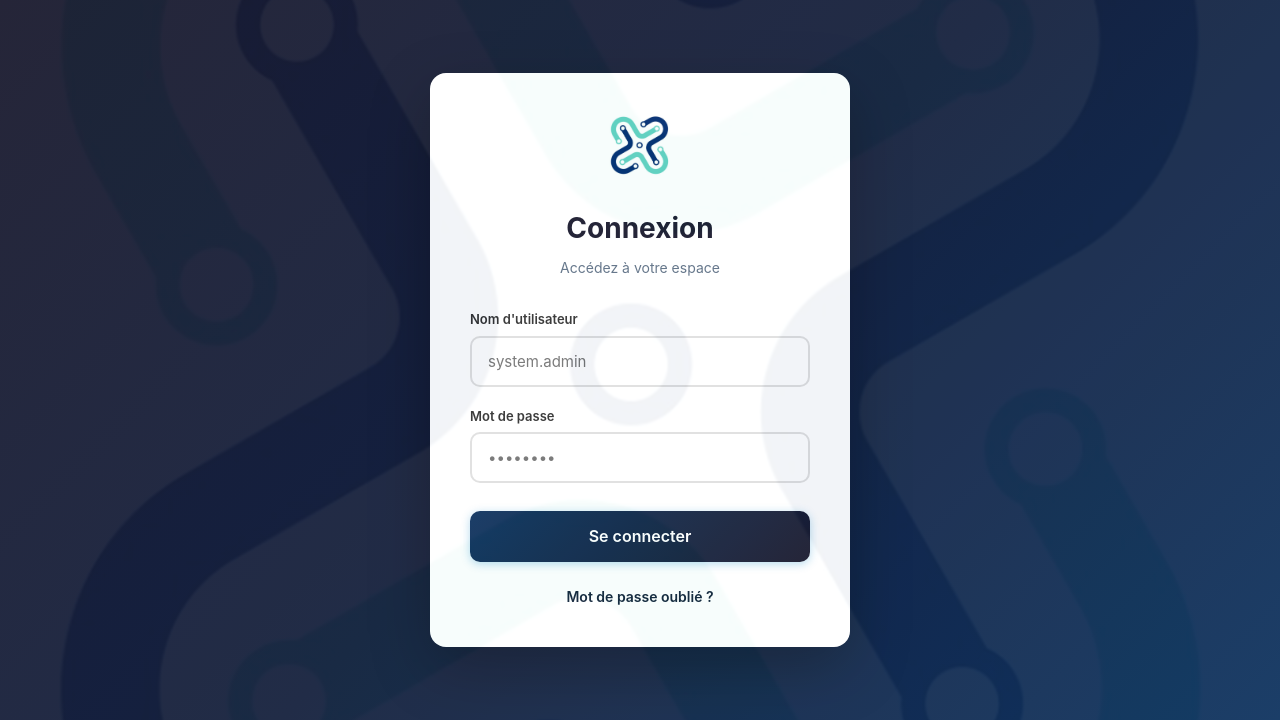
01 - Auth: Login Page › should show error on invalid credentials
Type "wrong.user" into the field with id "username" at {"x": 640, "y": 362}, box [470,336,810,387]
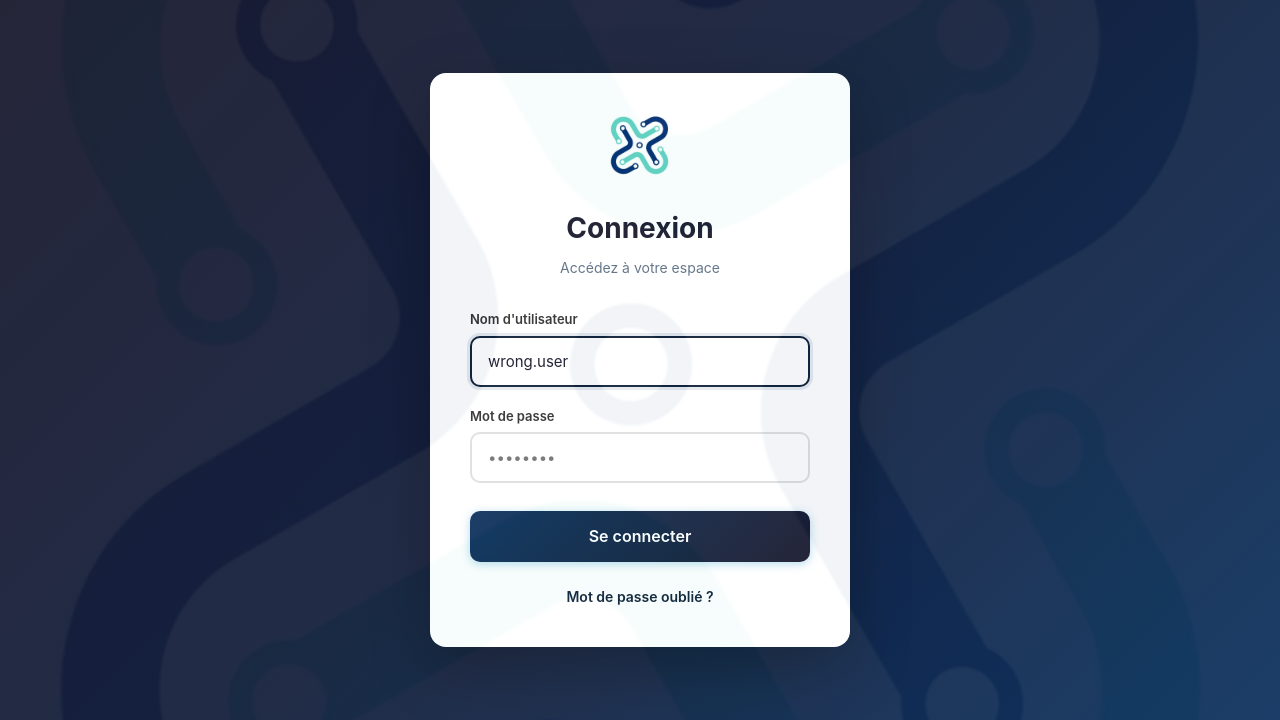
Type "wrongpass" into the password field labelled "Mot de passe" at {"x": 640, "y": 458}, box [470,432,810,483]
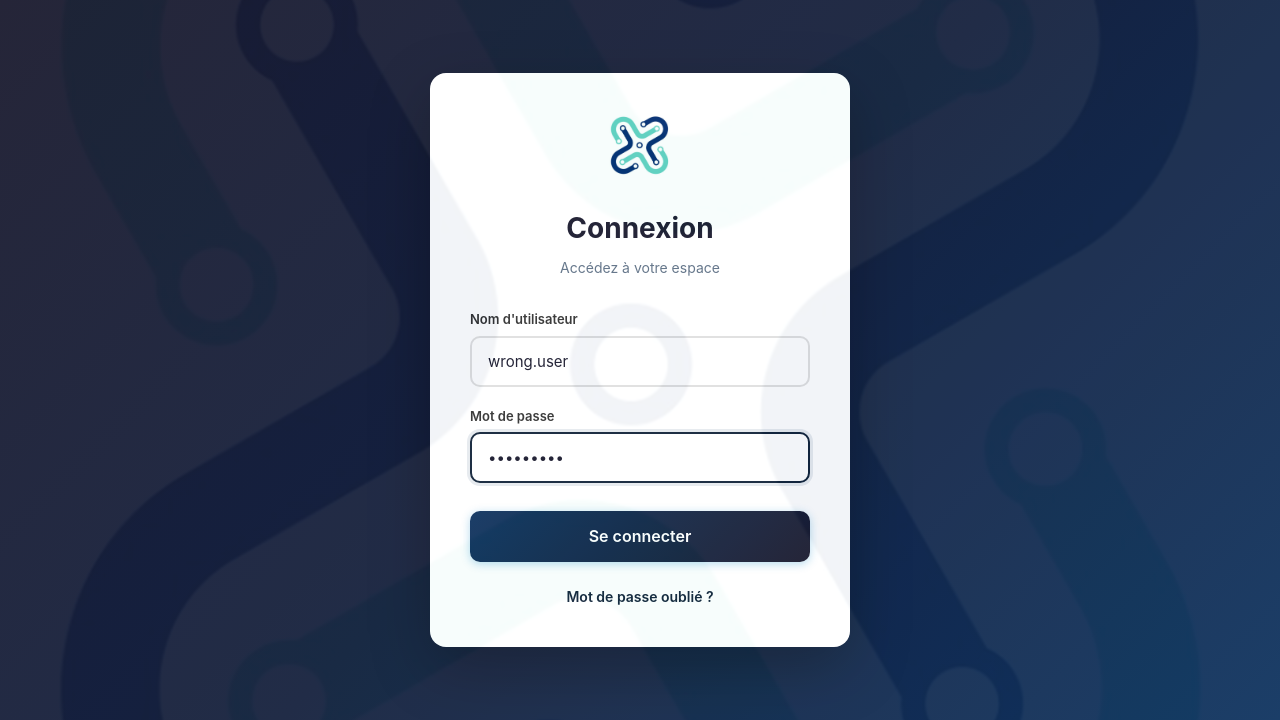
Click the submit button at {"x": 640, "y": 536}, box [470,511,810,561]
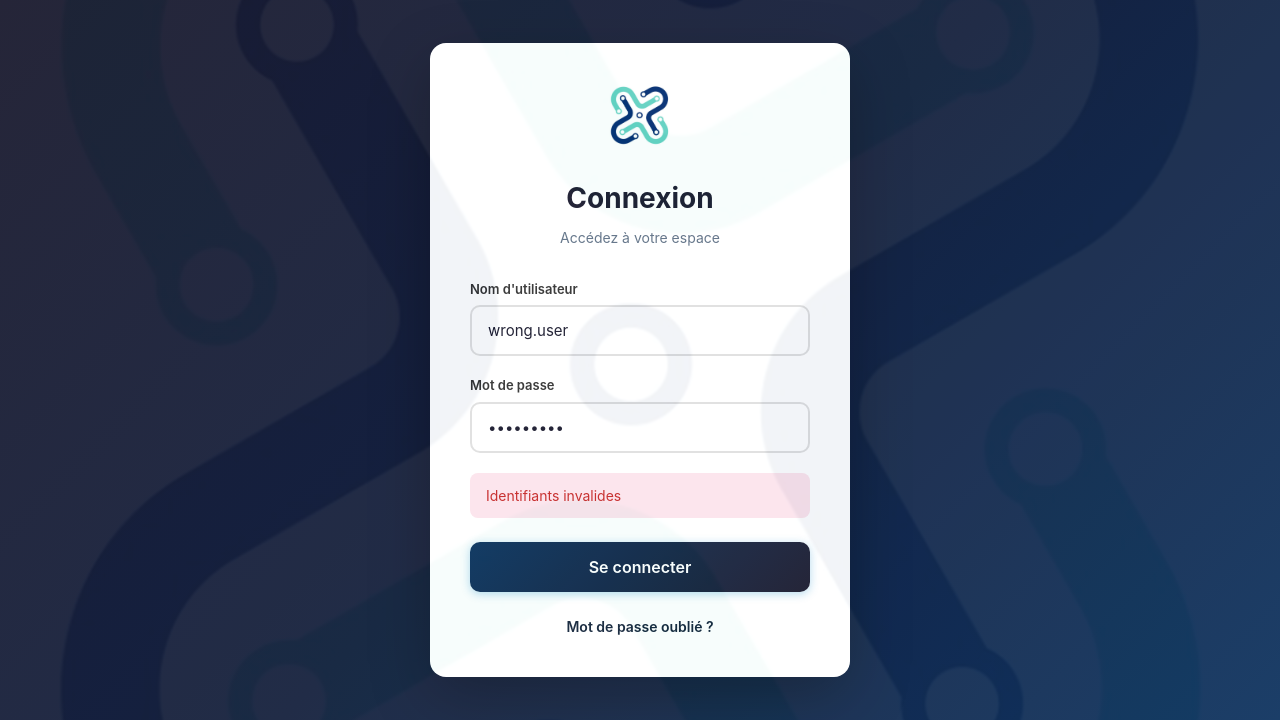
Now the message "Identifiants invalides" is shown, box [470,473,810,518]
